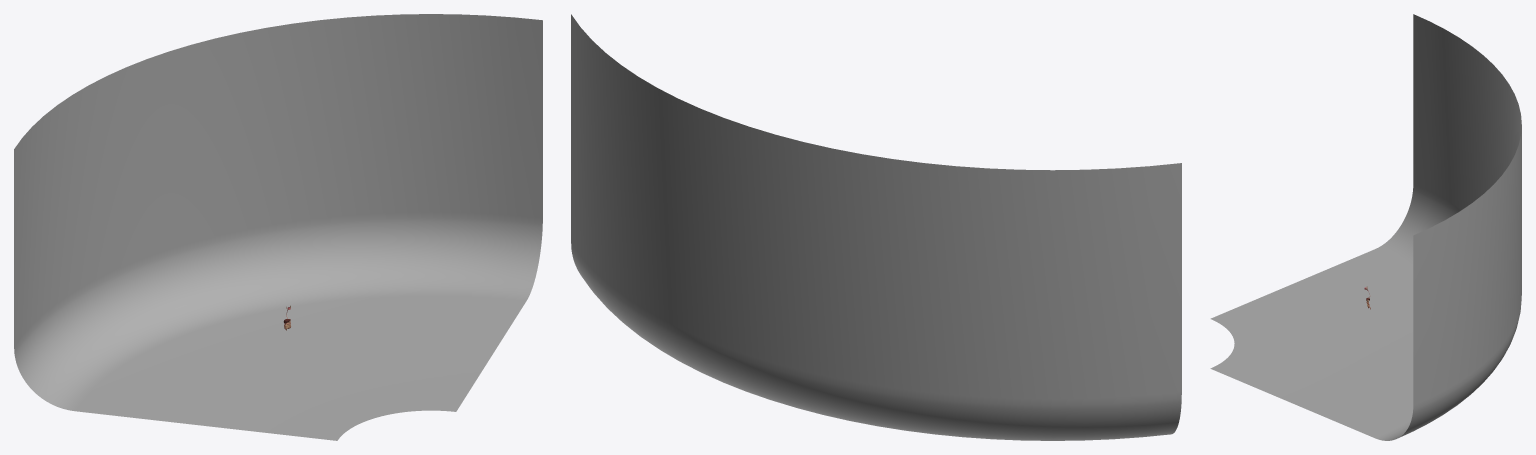
Rendered from digestive system.fbx.
3 views of the same model, side by side, from view 1: azimuth 30°, elevation 25°; view 2: azimuth 150°, elevation 25°; view 3: azimuth 270°, elevation 25° (orthographic). The views are drawn at different scales.
Parts seen in each view (by area): view 1: Studio; view 2: Studio; view 3: Studio.
Boxes of the visible parts, bbox=[...] form: Studio: bbox=[14, 14, 542, 440]; Studio: bbox=[571, 14, 1181, 440]; Studio: bbox=[1210, 14, 1521, 440].
Size of the model in its own units: 1634 by 753 by 972.
Materials: 2 (1 with a texture image).
